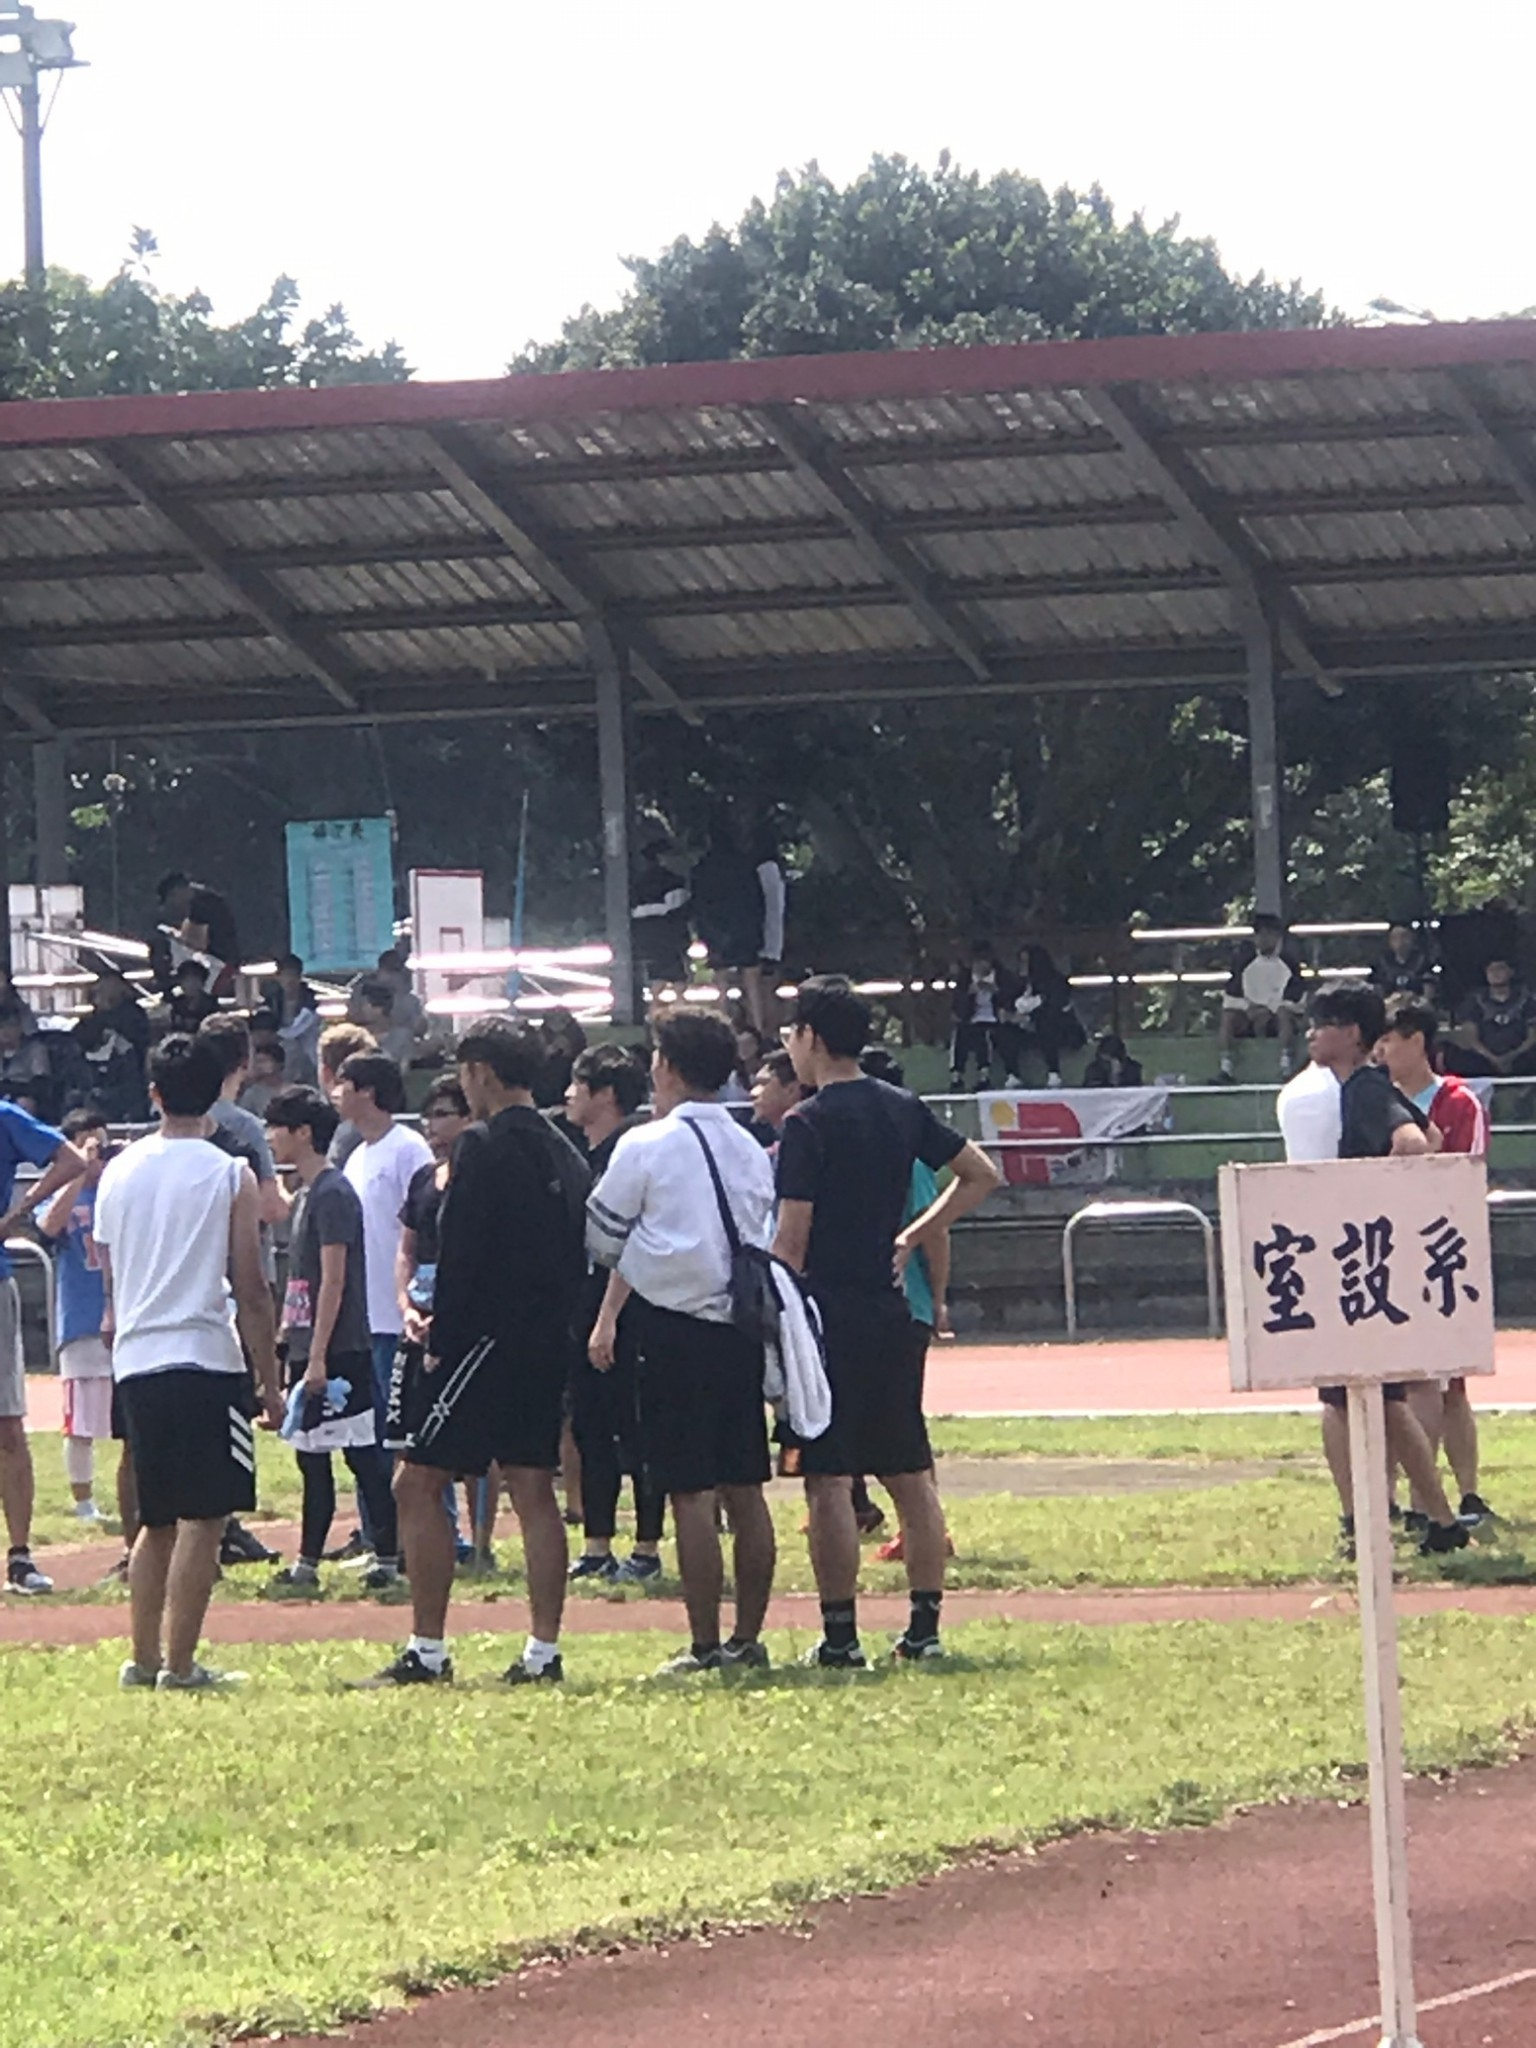people: (776, 980, 960, 1686), (621, 1005, 779, 1689), (108, 1031, 237, 1689), (437, 1012, 560, 1680), (1386, 986, 1518, 1551), (253, 1083, 392, 1612), (2, 1086, 82, 1609), (53, 1115, 131, 1534), (1302, 976, 1447, 1186), (1211, 918, 1315, 1089), (156, 864, 250, 993), (698, 809, 769, 973), (1002, 947, 1073, 1080), (631, 834, 692, 983), (1473, 964, 1536, 1086), (960, 938, 1015, 1076), (79, 976, 150, 1060), (1379, 912, 1437, 1012), (263, 960, 318, 1051), (356, 980, 421, 1057), (379, 941, 424, 999)
